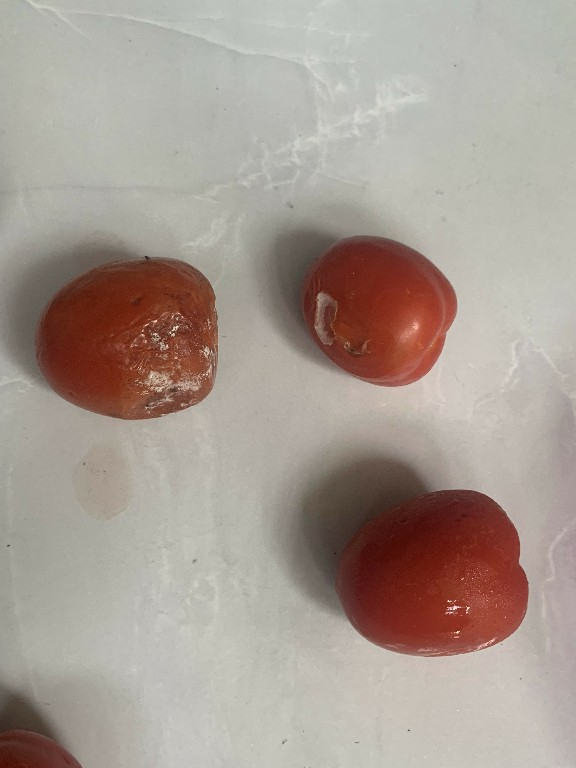NG: (17, 246, 241, 430), (289, 220, 474, 405)
OK: (319, 481, 548, 674)
